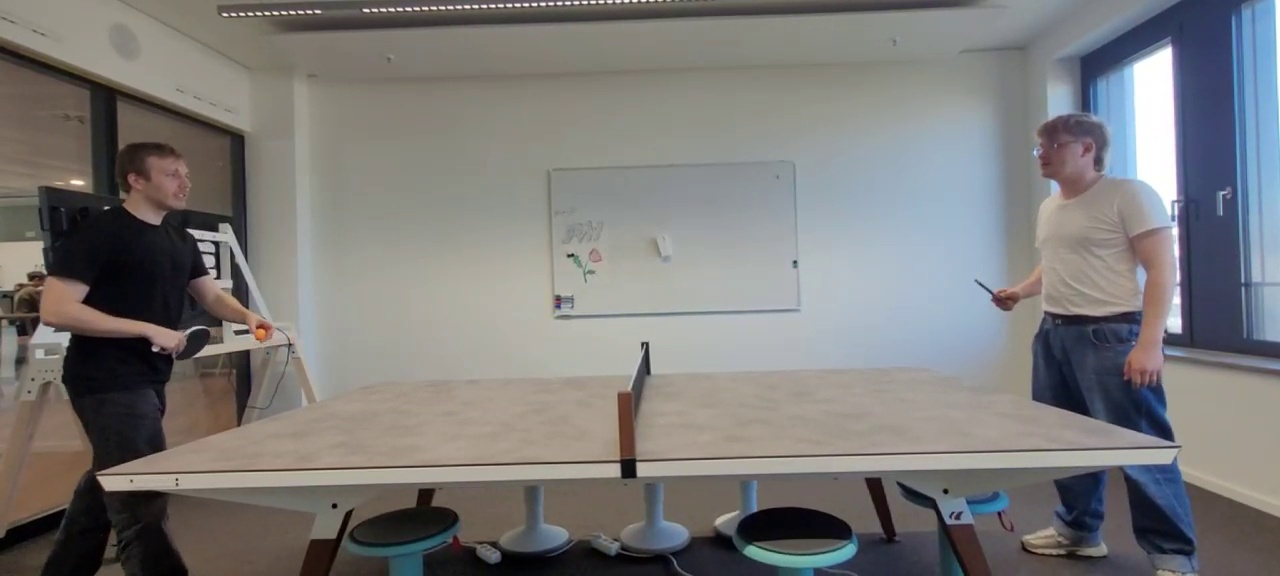plate: (96, 365, 1178, 474)
racket: (174, 326, 211, 360), (974, 279, 1002, 301)
ttball: (254, 329, 266, 340)
